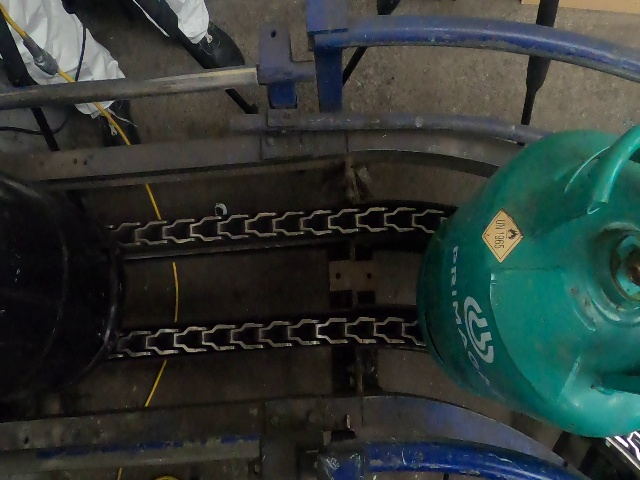gas_bottle: (4, 2, 638, 480)
